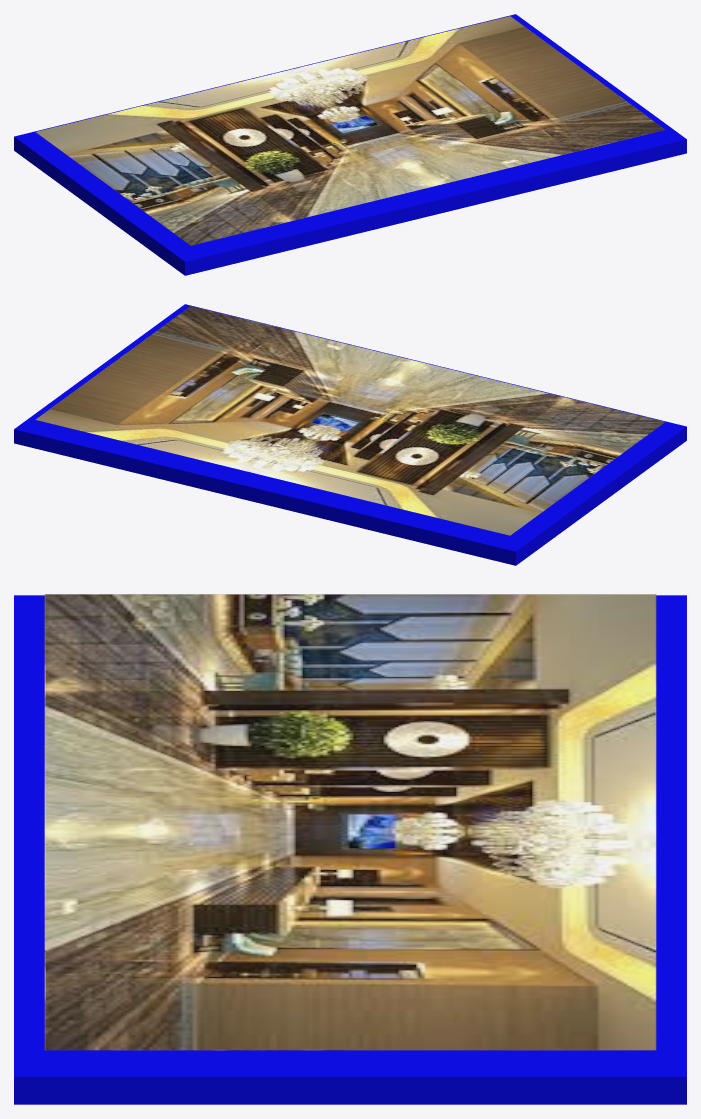
3 views of the same model, one above another, from view 1: azimuth 30°, elevation 25°; view 2: azimuth 150°, elevation 25°; view 3: azimuth 270°, elevation 25° (orthographic). The views are drawn at different scales.
Visible parts, largest first — view 1: PhotoPlane, PhotoBorder; view 2: PhotoPlane, PhotoBorder; view 3: PhotoPlane, PhotoBorder.
Boxes of the visible parts, x1=… form: PhotoPlane: x1=36, y1=16, x2=665, y2=245; PhotoBorder: x1=14, y1=14, x2=686, y2=275; PhotoPlane: x1=35, y1=306, x2=664, y2=535; PhotoBorder: x1=14, y1=304, x2=686, y2=565; PhotoPlane: x1=44, y1=594, x2=656, y2=1050; PhotoBorder: x1=14, y1=595, x2=686, y2=1104.
Bounding box in the file's own units: 18.63 × 0.75 × 11.
2 materials, 1 textured.
